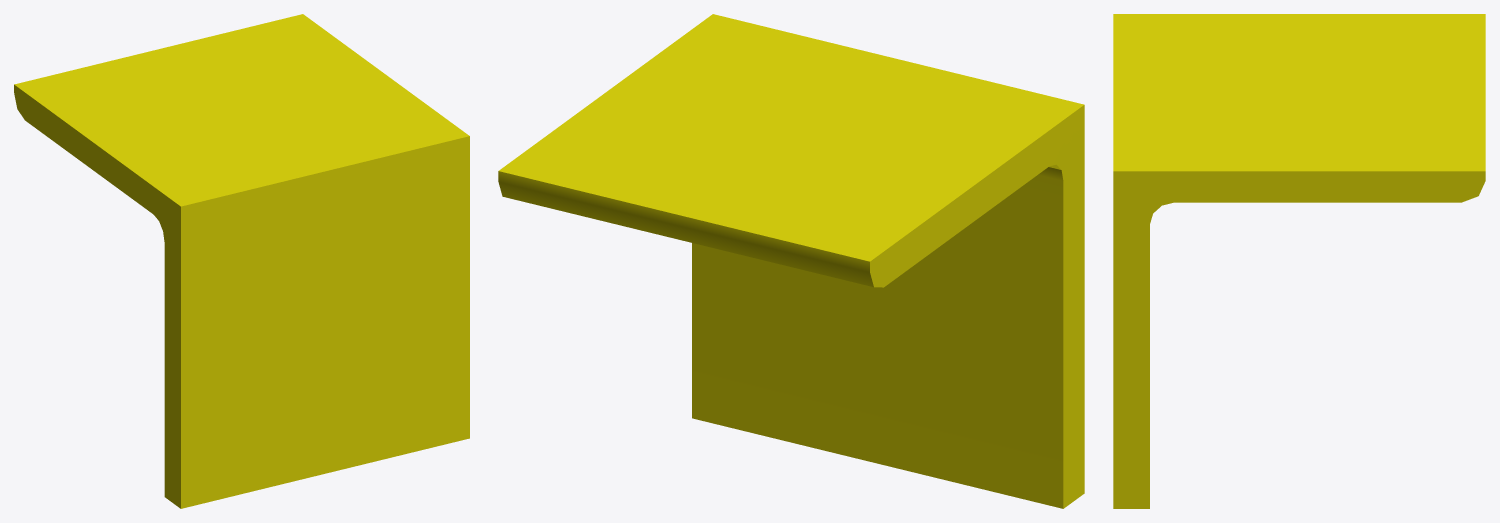
The model's file is TableTop.fbx.
3 views of the same model, side by side, from view 1: azimuth 30°, elevation 25°; view 2: azimuth 150°, elevation 25°; view 3: azimuth 270°, elevation 25° (orthographic). The views are drawn at different scales.
Visible parts, largest first — view 1: pCube1; view 2: pCube1; view 3: pCube1.
Boxes of the visible parts, x1,y1,x2,y2 form: pCube1: (14, 14, 469, 508); pCube1: (498, 14, 1084, 508); pCube1: (1113, 14, 1485, 508).
Bounding box in the file's own units: 2 × 2 × 2.
